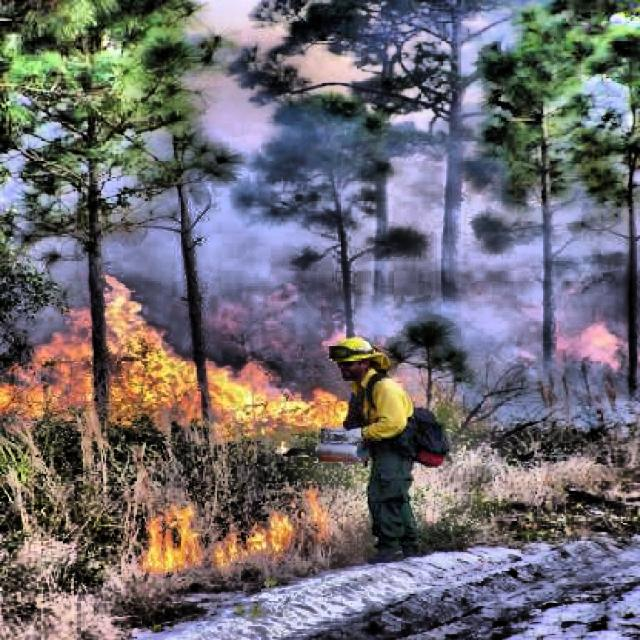Fire: (0, 276, 351, 432), (144, 486, 330, 566)
